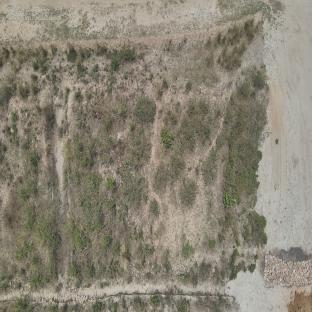rock_toe: (76, 251, 312, 285), (263, 254, 312, 285)
toe_drain: (1, 276, 235, 307)
